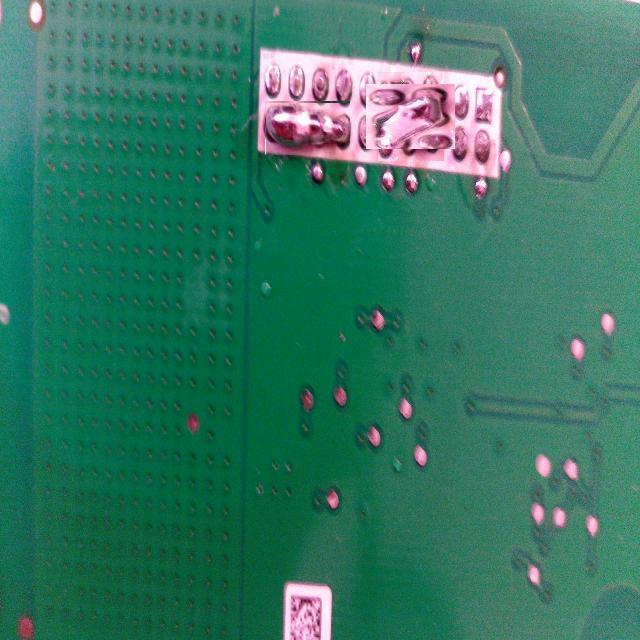Short_circuit: (372, 78, 450, 155), (265, 101, 350, 156)
